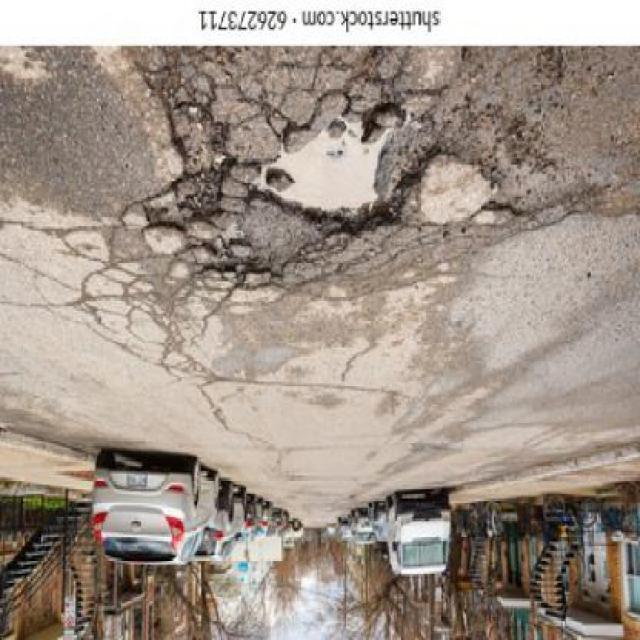Pothole: (138, 89, 414, 288), (414, 140, 513, 232)
